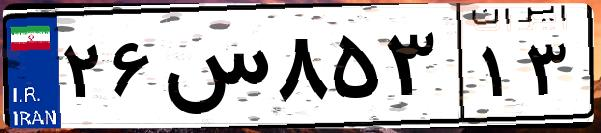1: (475, 38, 525, 113)
2: (57, 26, 110, 100)
3: (385, 28, 445, 110), (525, 38, 570, 115)
5: (330, 28, 385, 110)
6: (110, 28, 158, 98)
8: (270, 28, 330, 110)
س: (158, 20, 270, 120)
